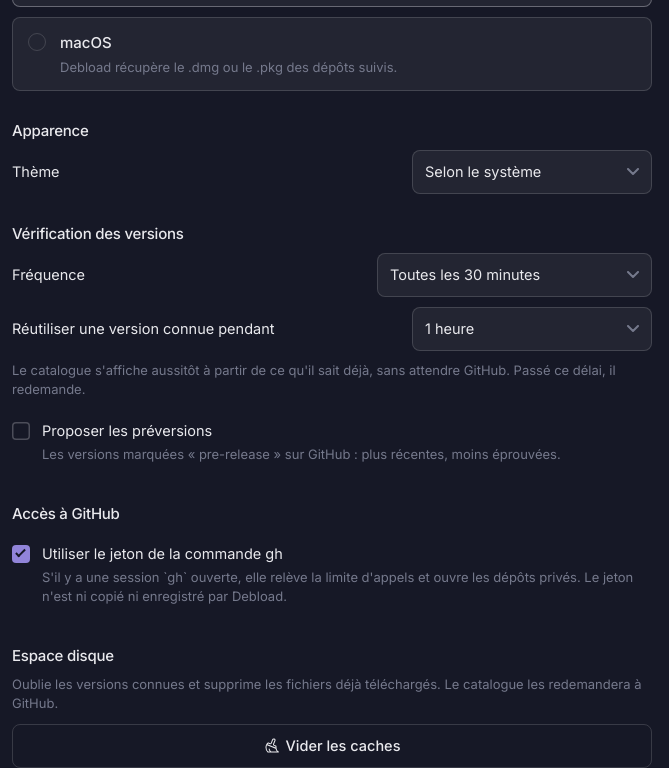
it: SettingsView › vide les caches à la demande
The width and height of the screenshot is (669, 768).
(page scrolled)
Step 1. Click the button "Vider les caches" → point(332, 746), box [12,724,652,767]
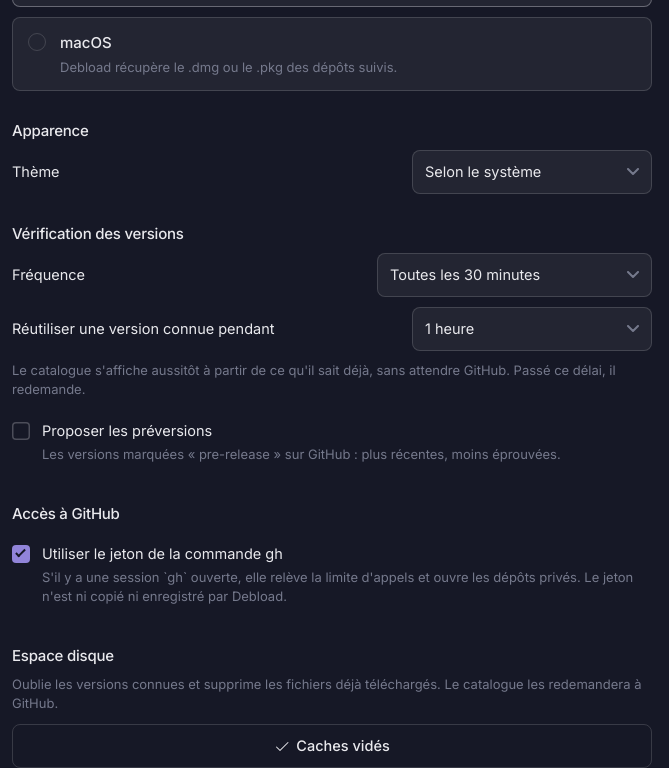
Now the button "Caches vidés" is shown, box [12,724,652,767]
